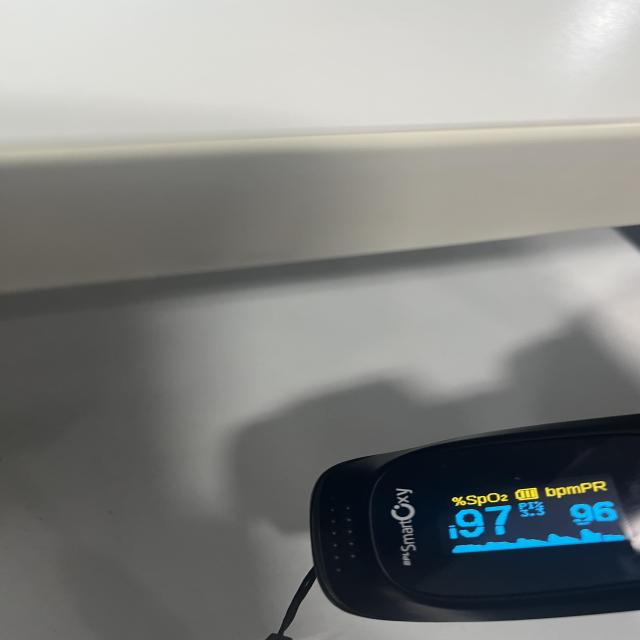spo2: (306, 415, 640, 625)
